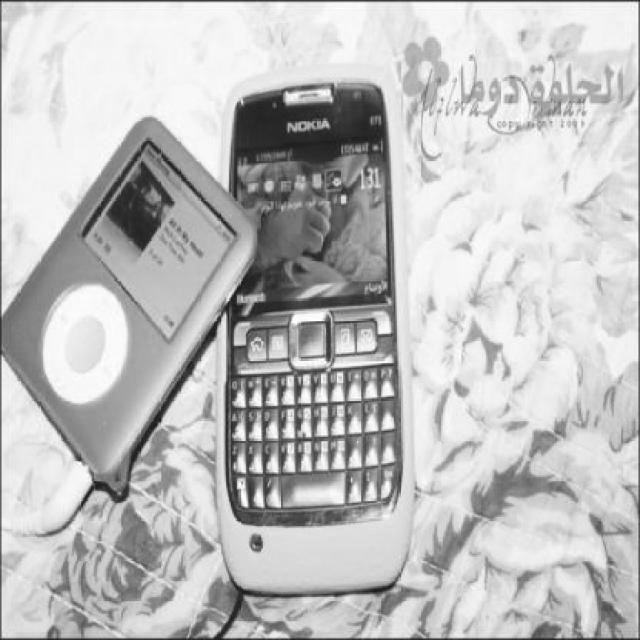fake: (220, 72, 411, 580)
